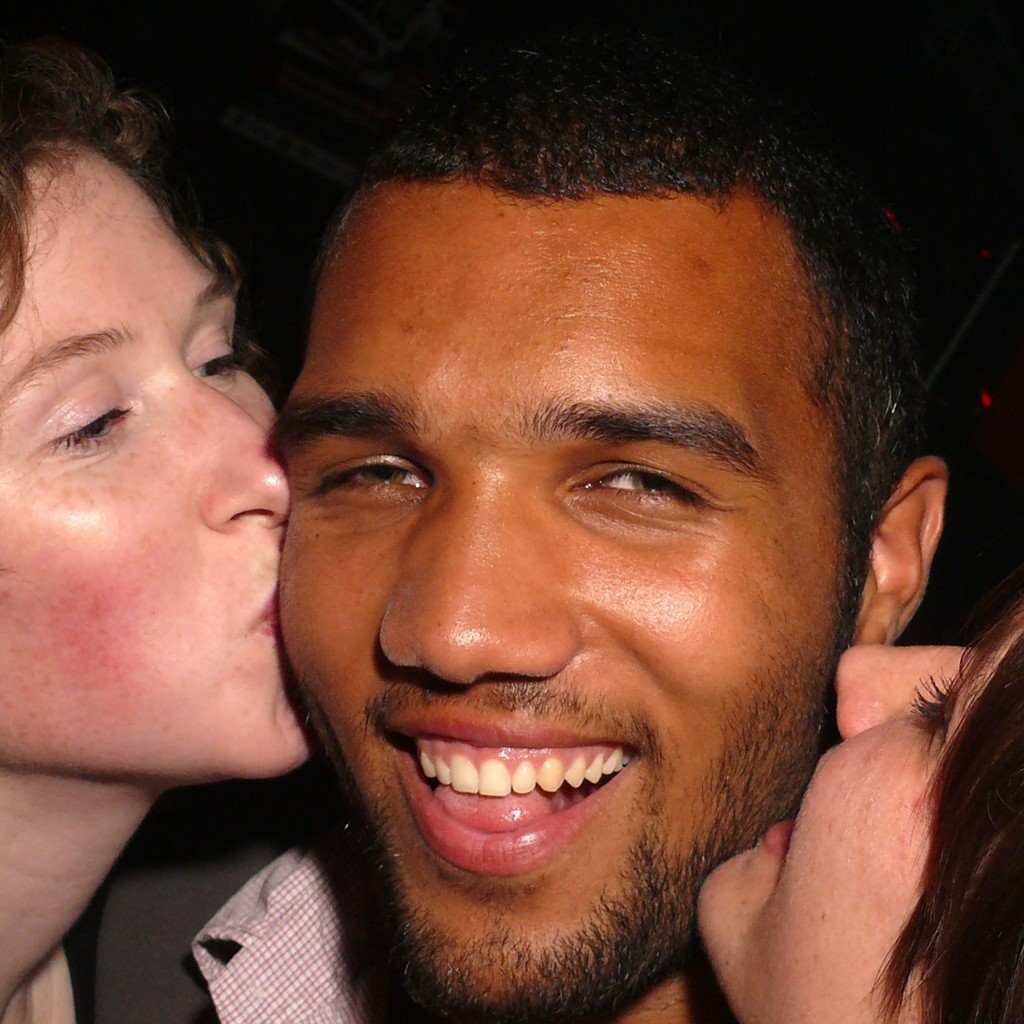sin_mascara: (294, 121, 874, 1000)
